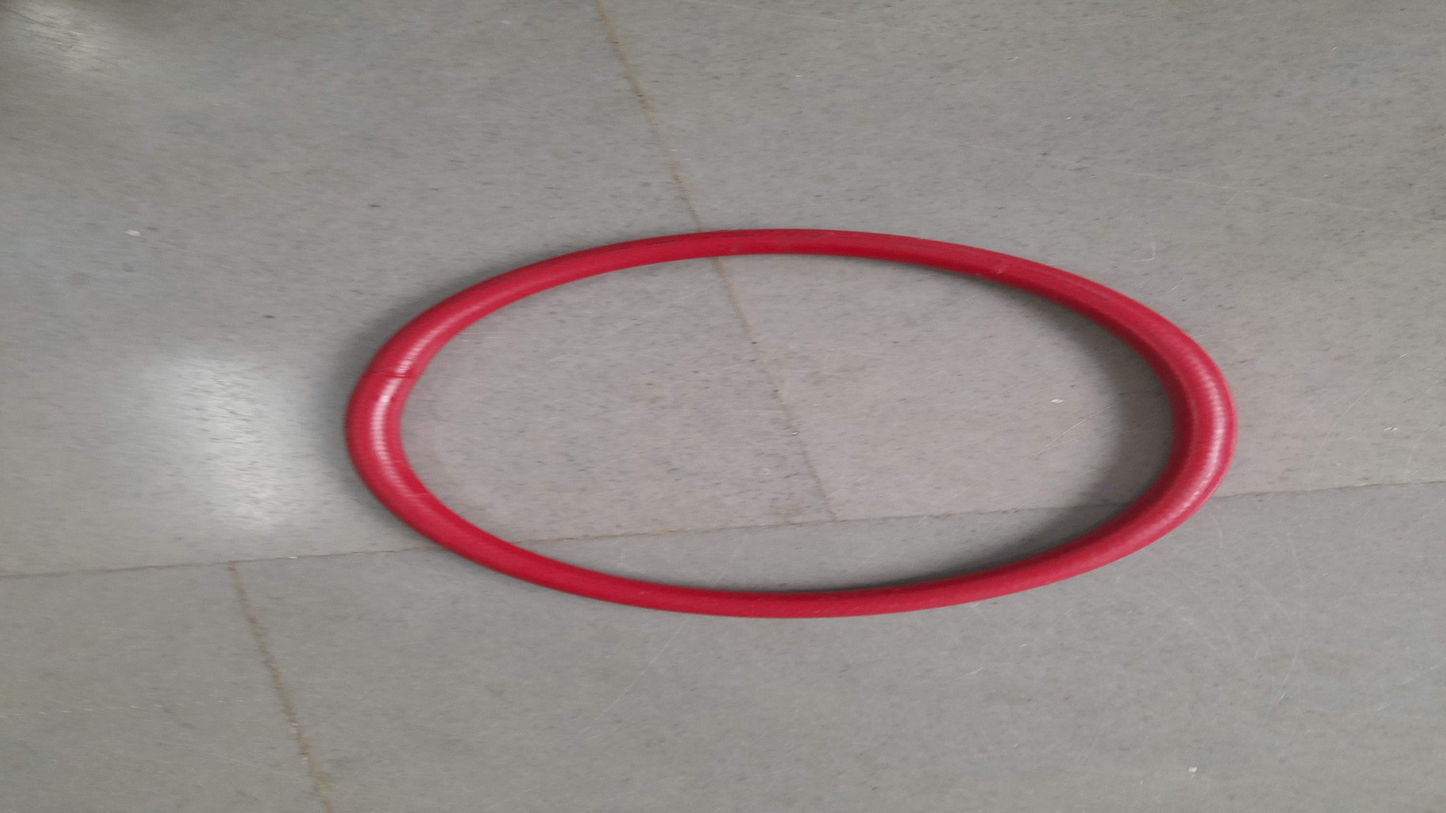Red ring: (340, 227, 1239, 621)
